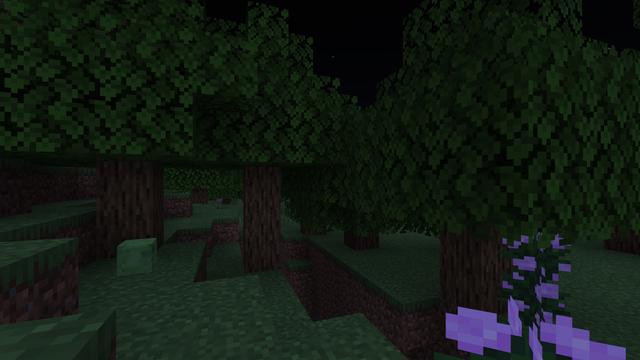slimes: (115, 236, 158, 275)
